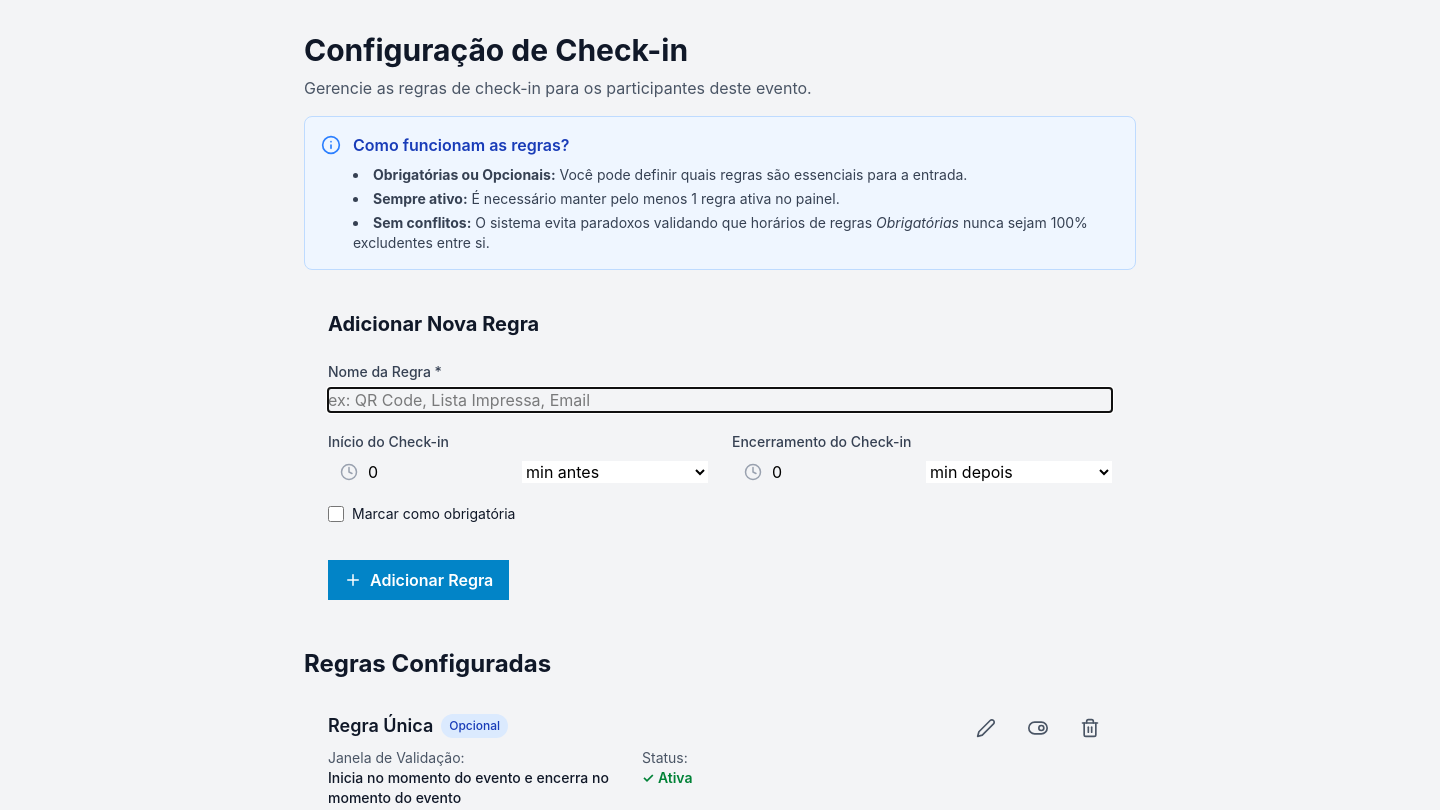
Test case: CheckinRules Component › should remove a rule and display alert if no active rule is left
The width and height of the screenshot is (1440, 810).
Expected: the heading "Regra Única" is shown, 328,712 -> 433,740
Step 1. Click the button titled "Remover regra" → {"x": 1090, "y": 728}, box 1068,712 -> 1112,744
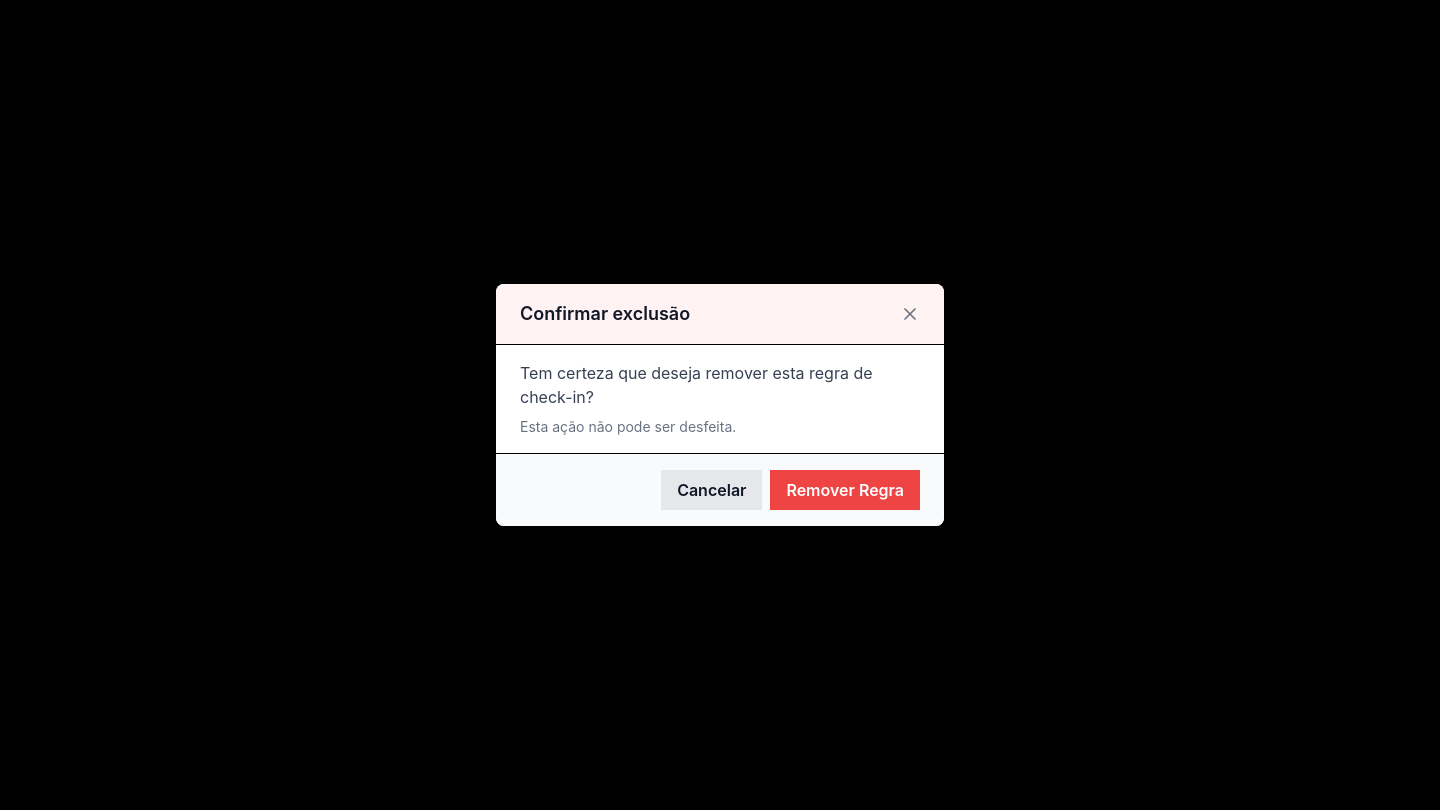
Step 2. Click the button "Remover Regra" → {"x": 845, "y": 490}, box 770,470 -> 920,510
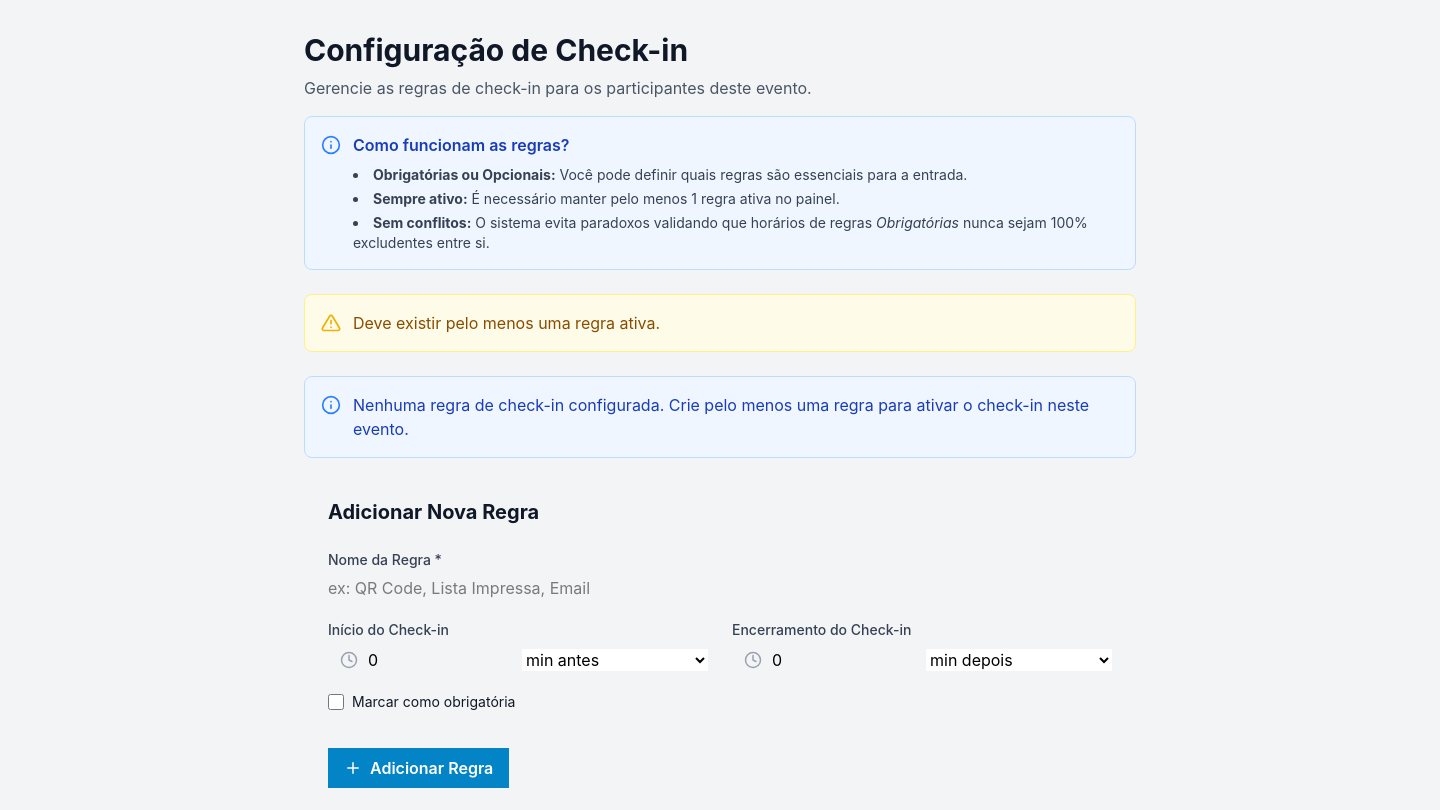
Result: the text "Deve existir pelo menos uma regra ativa." is shown at 353,313 -> 660,333
